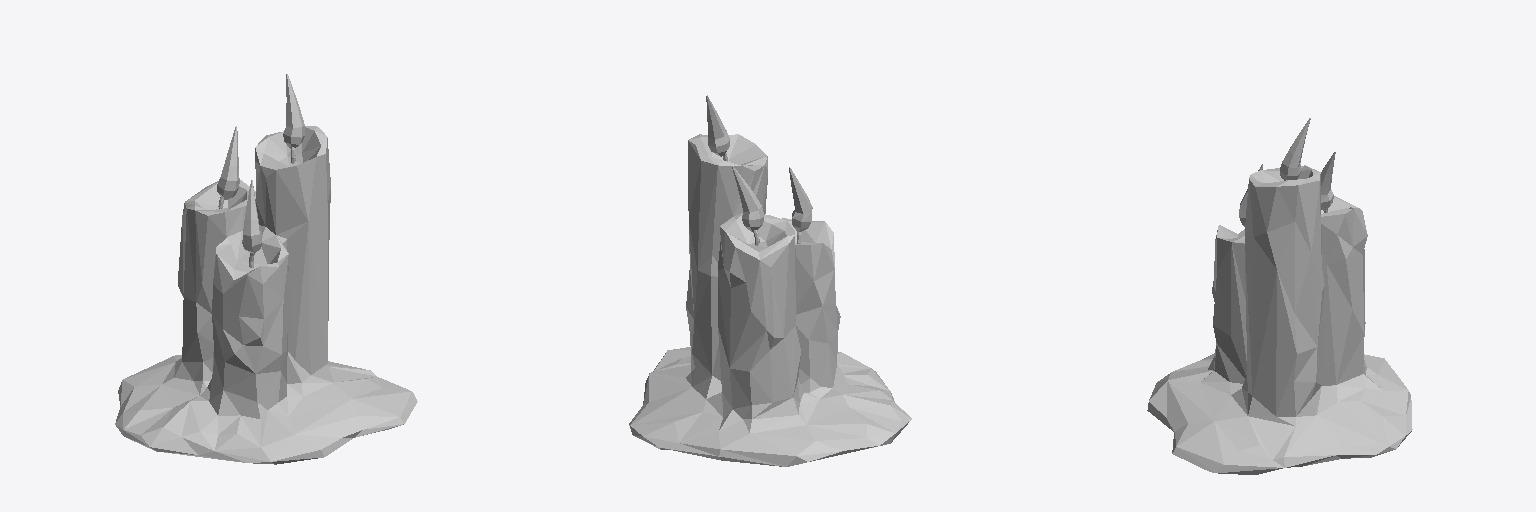
File: candle15.obj
3 views of the same model, side by side, from view 1: azimuth 30°, elevation 25°; view 2: azimuth 150°, elevation 25°; view 3: azimuth 270°, elevation 25° (orthographic).
Visible parts, largest first — view 1: Object003, candleflame003, candleflame002, candleflame001; view 2: Object003, candleflame002, candleflame001, candleflame003; view 3: Object003, candleflame003, candleflame002.
Boxes of the visible parts, <box> form: Object003: <box>115,126,417,464</box>; candleflame003: <box>283,74,304,148</box>; candleflame002: <box>217,126,239,199</box>; candleflame001: <box>242,180,262,253</box>; Object003: <box>629,134,911,466</box>; candleflame002: <box>732,166,763,231</box>; candleflame001: <box>789,167,812,231</box>; candleflame003: <box>706,95,729,156</box>; Object003: <box>1147,165,1412,474</box>; candleflame003: <box>1280,118,1310,180</box>; candleflame002: <box>1321,152,1335,210</box>.
Size of the model in its own units: 1.05 by 1.23 by 0.9231.